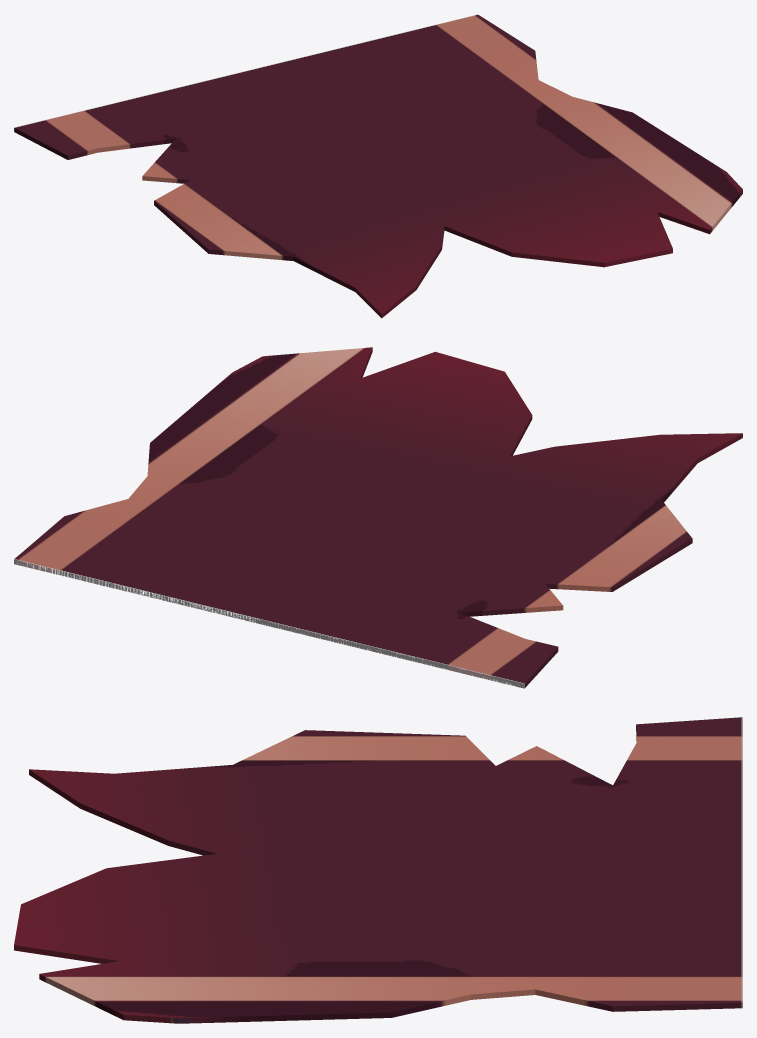
The model's file is Carpet 01 End 03.fbx.
The picture shows the model from 3 angles, top to bottom: view 1: azimuth 30°, elevation 25°; view 2: azimuth 150°, elevation 25°; view 3: azimuth 270°, elevation 25°; orthographic projection. The views are drawn at different scales.
Parts seen in each view (by area): view 1: Carpet 01 End 03.001; view 2: Carpet 01 End 03.001; view 3: Carpet 01 End 03.001.
Boxes of the visible parts, <box> form: Carpet 01 End 03.001: <box>14,14,742,318</box>; Carpet 01 End 03.001: <box>14,347,742,688</box>; Carpet 01 End 03.001: <box>14,717,742,1023</box>.
Size of the model in its own units: 176 by 1.5 by 180.
